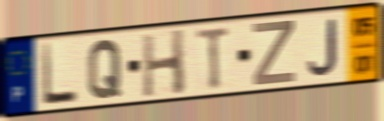H: (140, 27, 187, 100)
J: (305, 16, 340, 79)
L: (40, 41, 80, 109)
Q: (86, 37, 124, 101)
T: (195, 24, 232, 92)
Z: (251, 19, 298, 88)
